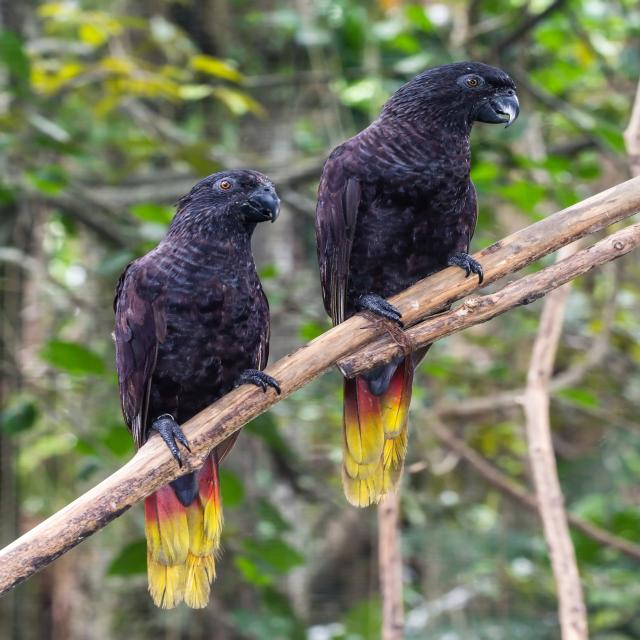Nuri Hitam: (306, 47, 526, 510), (98, 152, 291, 619)
